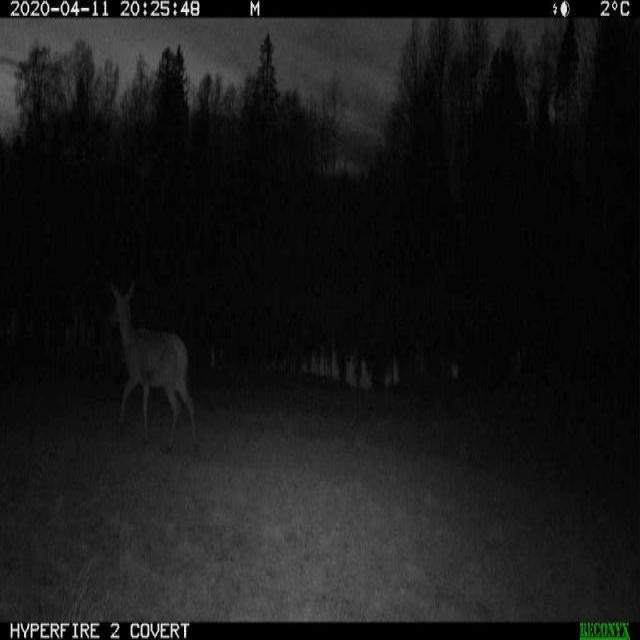deer: (101, 276, 197, 453)
